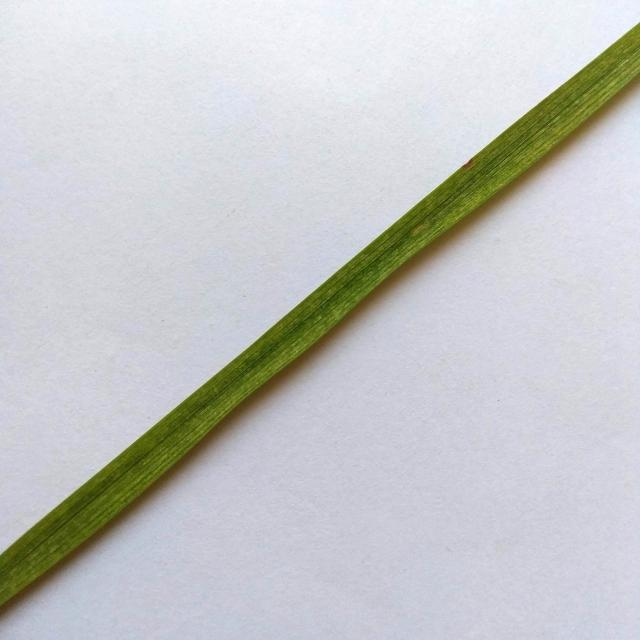brownspots: (450, 148, 480, 176)
